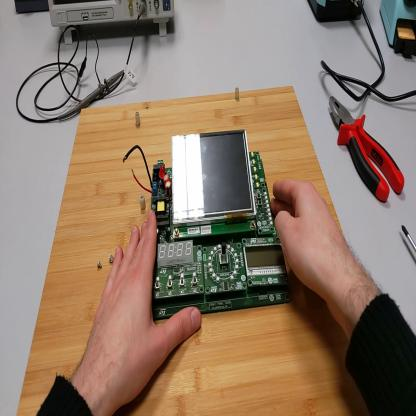hand: (86, 210, 199, 403), (271, 176, 353, 309)
low voltage board: (121, 130, 292, 320)
oscilloscope: (48, 2, 177, 39)
oscilloscope probe tip: (60, 72, 123, 121)
pliers: (329, 96, 405, 202)
screwdriver-: (403, 224, 416, 257)
socket: (16, 2, 49, 15)
welder base: (381, 2, 416, 60)
welder station: (309, 1, 363, 27)
working area: (17, 84, 370, 415)
